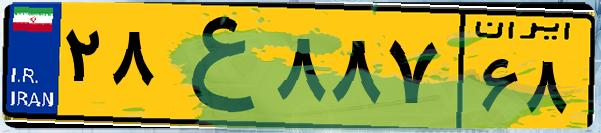2: (57, 26, 110, 100)
6: (475, 38, 525, 113)
7: (385, 28, 445, 110)
8: (270, 28, 330, 110), (330, 28, 385, 110), (525, 38, 570, 115), (110, 28, 158, 98)
ع: (158, 12, 270, 120)
